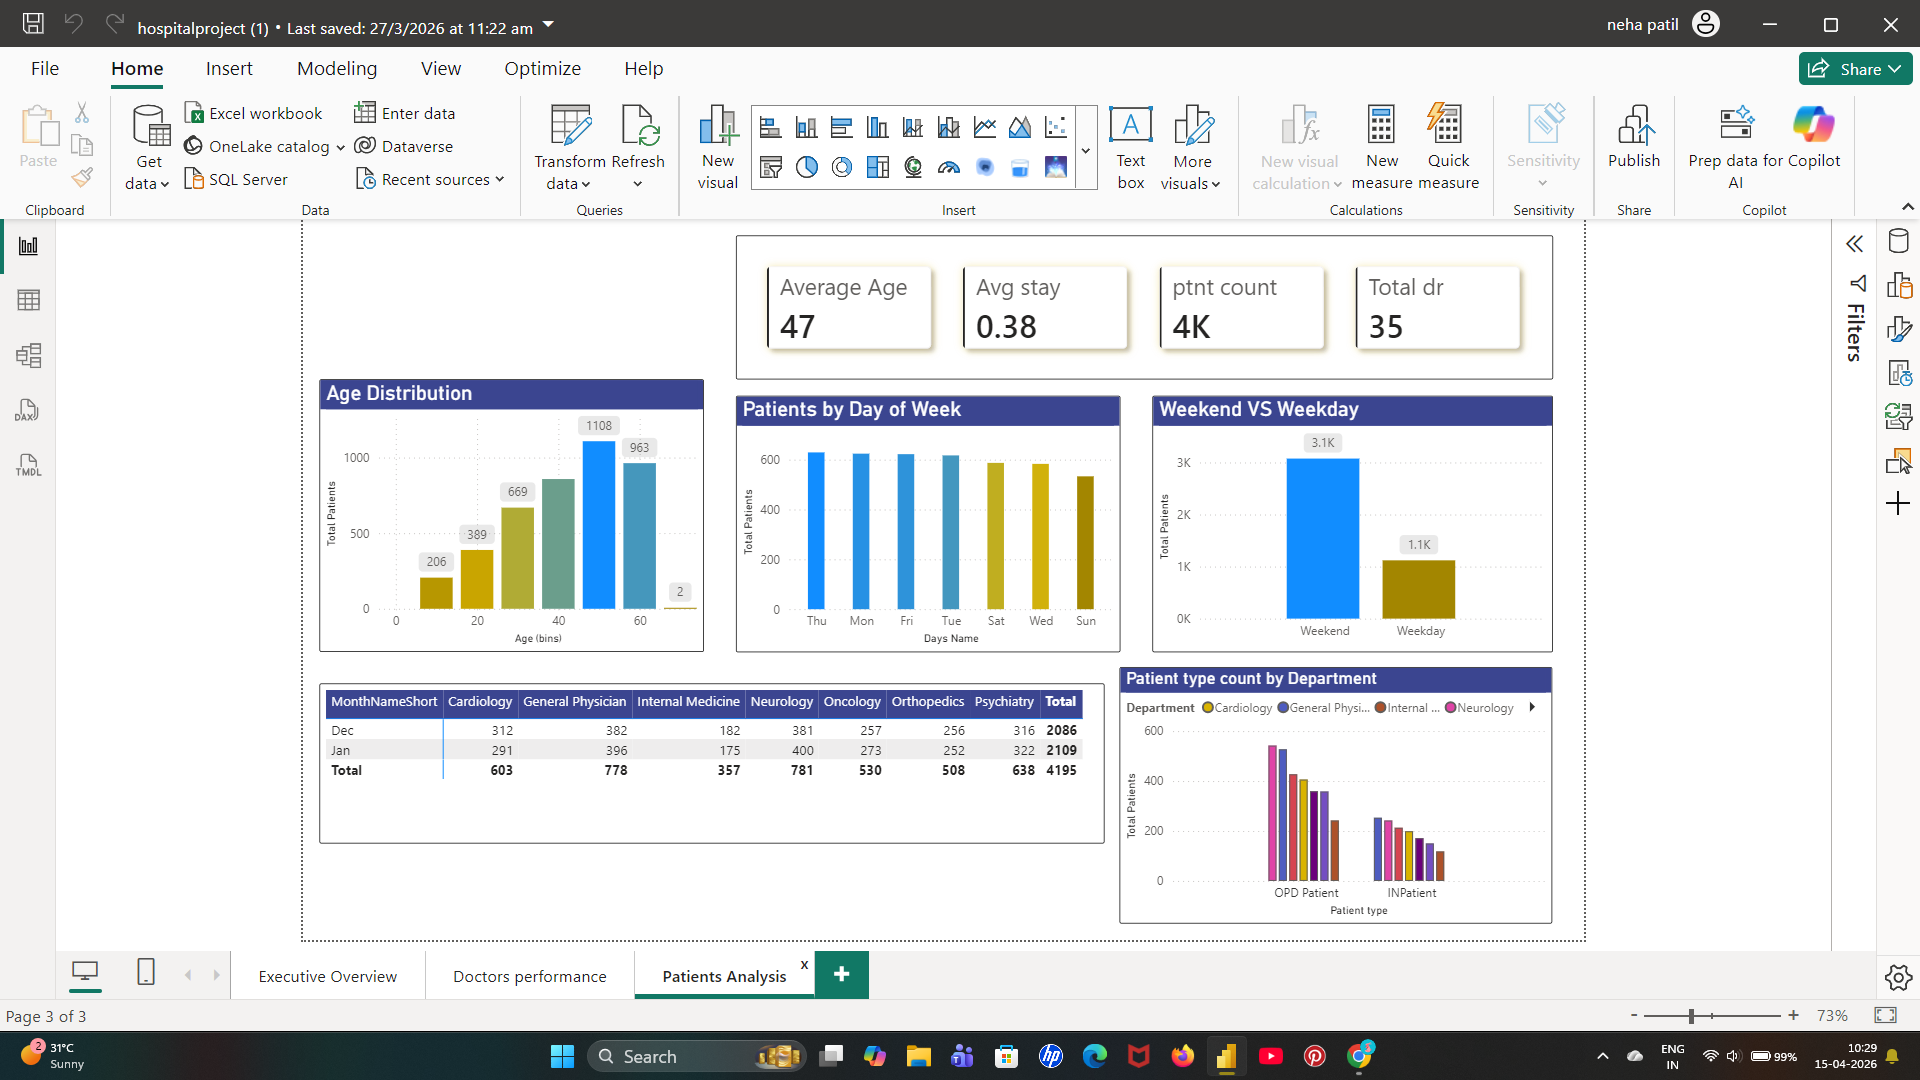

The dashboard page shown, as its layout file describes it:
{"tool":"powerbi","page":{"name":"Patients Analysis ","canvas":[1280,720],"ordinal":2},"visuals":[{"type":"cardVisual","fields":{"Data":["key measures.Average Age","key measures.Avg stay","key measures.patientscount","key measures.total doctor"]},"box":[432,16,816,144],"z":0},{"type":"columnChart","title":"Age Distribution","fields":{"Y":["key measures.Total Patients"],"Category":["patients.Age (bins)"]},"box":[16,160,384,272],"z":1000},{"type":"ribbonChart","title":"Patients by Day of Week","fields":{"Y":["key measures.Total Patients"],"Category":["calendar.DayNameShort"]},"box":[432,176,384,256],"z":2000},{"type":"columnChart","title":"Weekend VS Weekday","fields":{"Y":["key measures.Total Patients"],"Category":["calendar.Weekday vs Weekend"]},"box":[848,176,400,256],"z":3000},{"type":"pivotTable","title":"Weekend VS Weekday","fields":{"Rows":["calendar.MonthNameShort"],"Columns":["doctors.Department"],"Values":["key measures.Total Patients"]},"box":[16,464,784,160],"z":4000},{"type":"lineClusteredColumnComboChart","title":"Patient type count by Department ","fields":{"Y":["key measures.Total Patients"],"Category":["patients.Patient type"],"Series":["doctors.Department"]},"box":[816,448,432,256],"z":5000}]}

Visuals, with their boxes on the page's 1280x720 design canvas (x1, y1, x2, y2). These are canvas units, not pixel positions in the 1920x1080 screenshot, which may show the page scaled, cropped or inside an application window:
cardVisual - key measures.Average Age x key measures.Avg stay: [432, 16, 1248, 160]
"Age Distribution" columnChart: [16, 160, 400, 432]
"Patients by Day of Week" ribbonChart: [432, 176, 816, 432]
"Weekend VS Weekday" columnChart: [848, 176, 1248, 432]
"Weekend VS Weekday" pivotTable: [16, 464, 800, 624]
"Patient type count by Department " lineClusteredColumnComboChart: [816, 448, 1248, 704]
